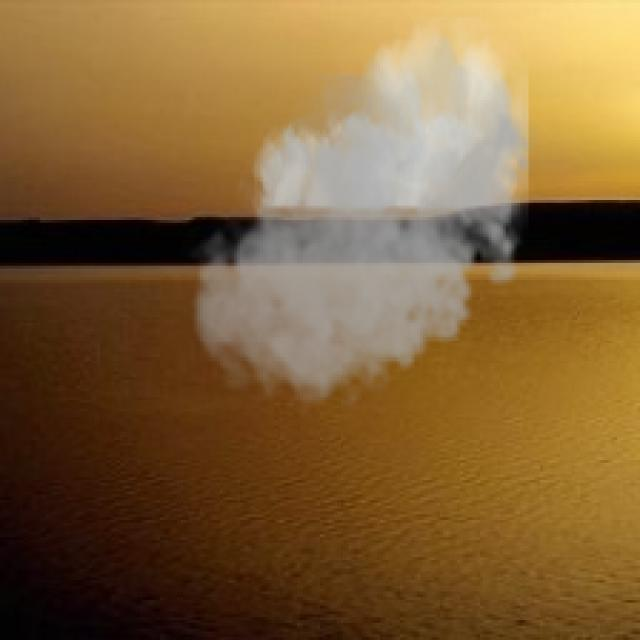smoke: (186, 17, 543, 420)
